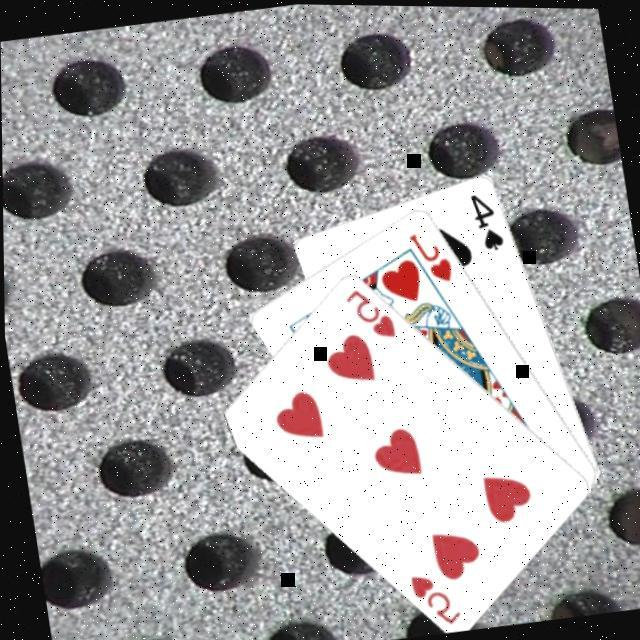4S: (467, 188, 509, 255)
5H: (340, 280, 401, 348), (404, 565, 465, 633)
JH: (405, 225, 458, 289)
